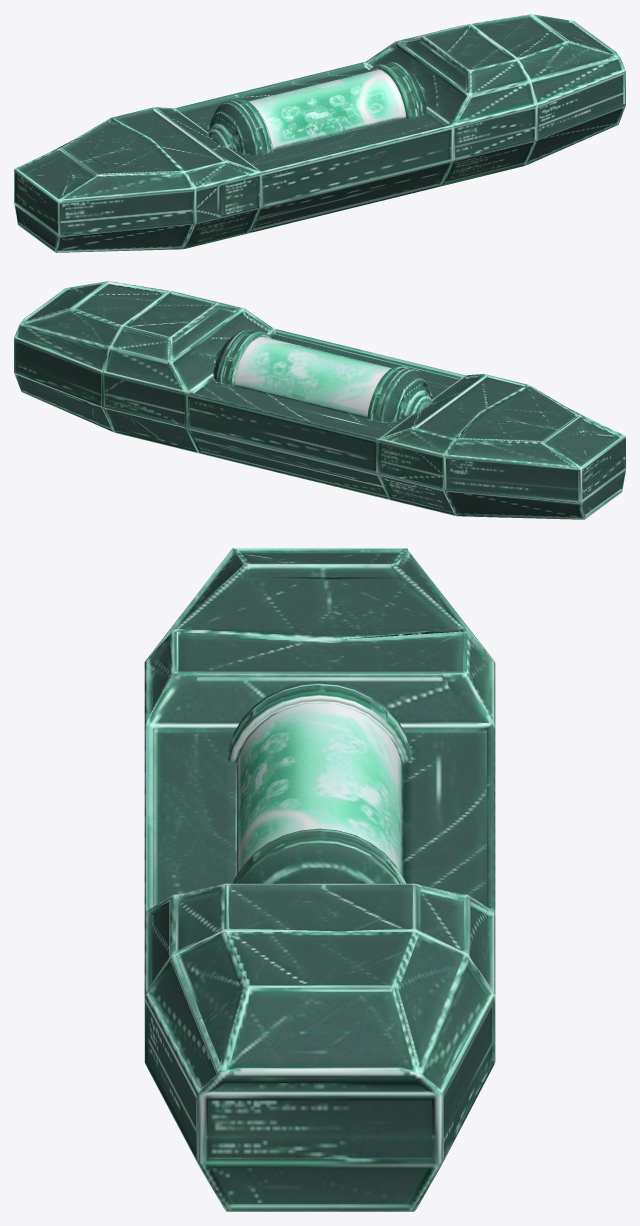
Rendered from galere_tripo.glb.
The picture shows the model from 3 angles, top to bottom: view 1: azimuth 30°, elevation 25°; view 2: azimuth 150°, elevation 25°; view 3: azimuth 270°, elevation 25°; orthographic projection. The views are drawn at different scales.
Visible parts, largest first — view 1: tripo_node_5718bf69-d870-4306-a2ee-e46a31e20d57; view 2: tripo_node_5718bf69-d870-4306-a2ee-e46a31e20d57; view 3: tripo_node_5718bf69-d870-4306-a2ee-e46a31e20d57.
Part boxes in pixels (box(x1,y1,x2,y2)): tripo_node_5718bf69-d870-4306-a2ee-e46a31e20d57: box(14, 14, 625, 252); tripo_node_5718bf69-d870-4306-a2ee-e46a31e20d57: box(14, 281, 625, 519); tripo_node_5718bf69-d870-4306-a2ee-e46a31e20d57: box(144, 548, 495, 1211).
Size of the model in its own units: 0.9995 by 0.1733 by 0.271.
Materials: 1 (1 with a texture image).
